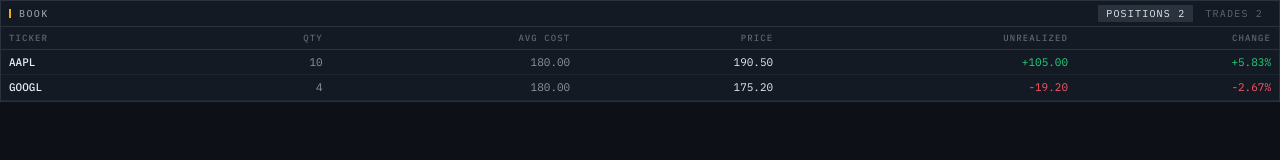
Test: PositionsPanel › switches to recent trades, newest first
What coordinates should you click on to do the following:
click the button with test id "positions-tab-trades"
I would click on:
 (1234, 14)
Its box is [1197,5,1271,22].
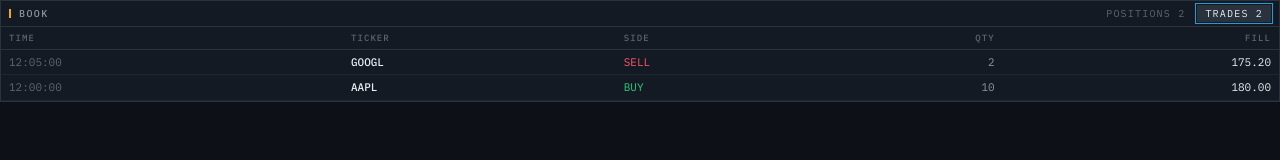
expect the table with test id "trades-table" is shown: met, box [1,27,1279,100]
expect the row with test id "trade-row-0" shows "GOOGL": met, box [351,54,384,68]
expect the row with test id "trade-row-0" shows "SELL": met, box [624,54,650,68]
